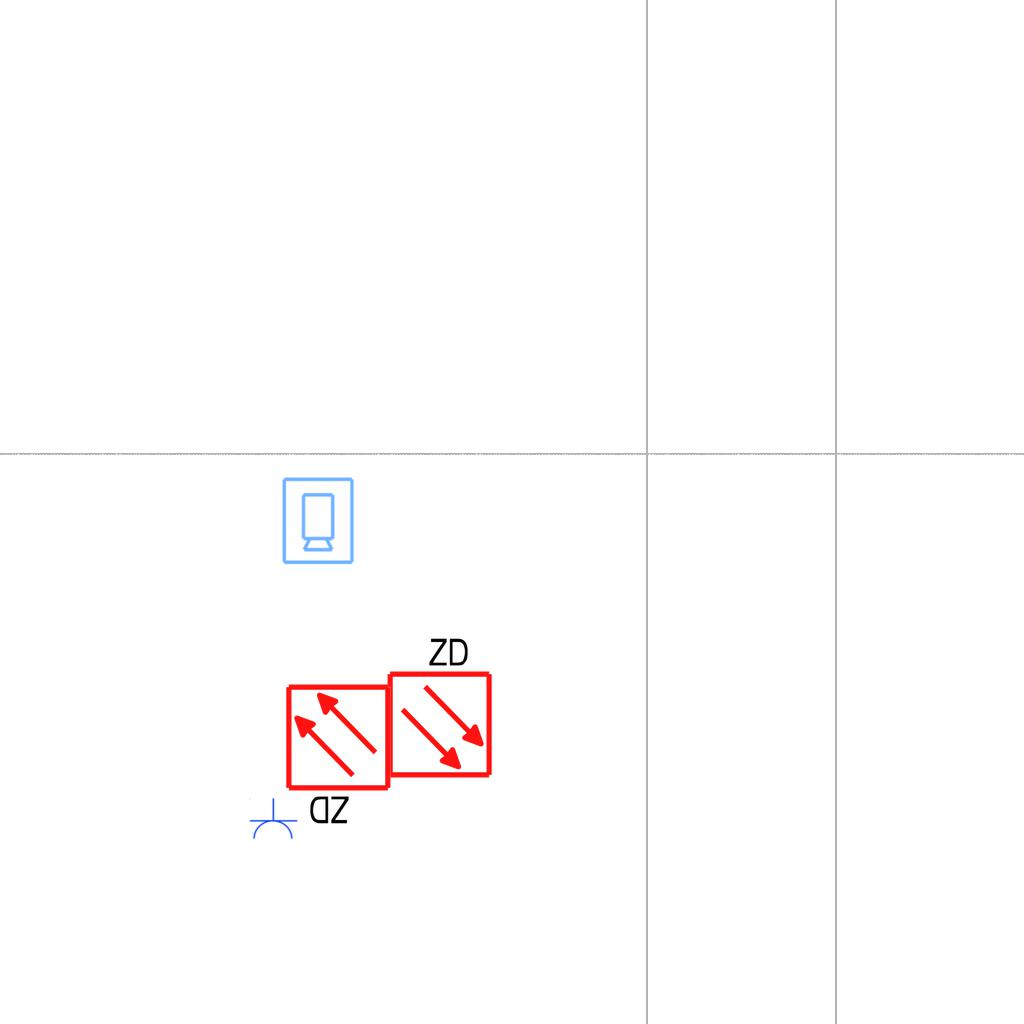KFO_Kamera_mit_Festobjektiv: (279, 475, 356, 566)
Schukosteckdose_einfach: (248, 798, 298, 841)
ZD_Melder_in_Zwischendecke_mit_Revisionsoeffnung_mind_40_x_40_cm: (381, 631, 495, 780), (283, 682, 397, 831)
